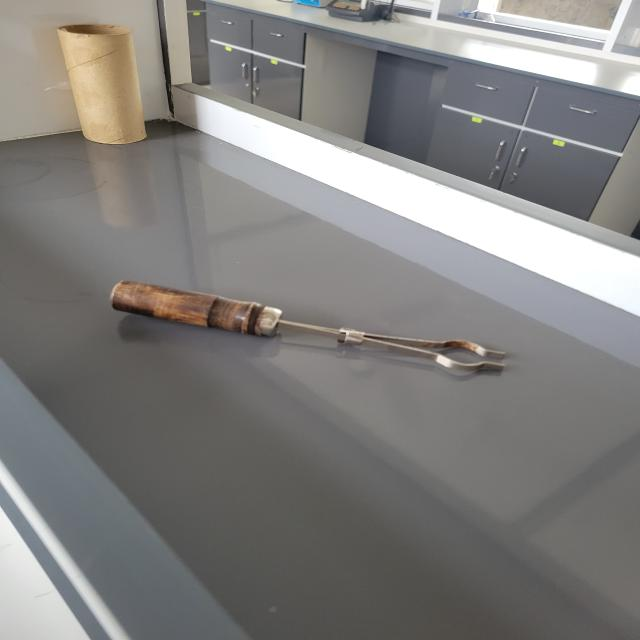TestTube_Holder: (64, 246, 546, 418)
